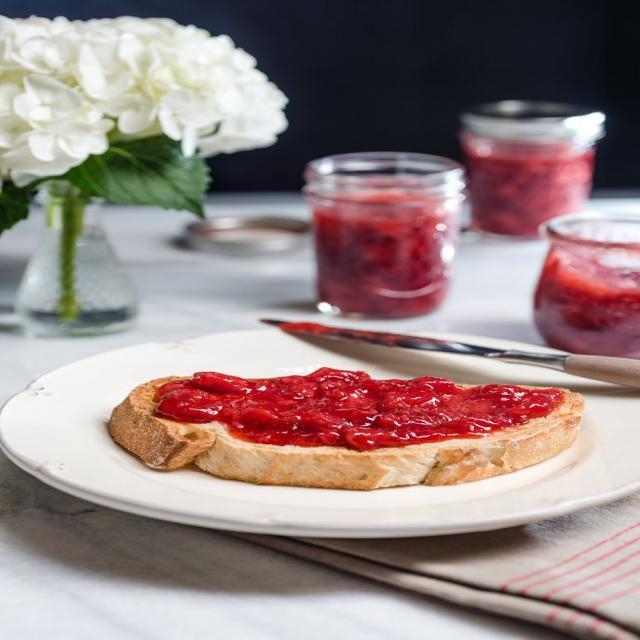Spread: (144, 366, 569, 444)
